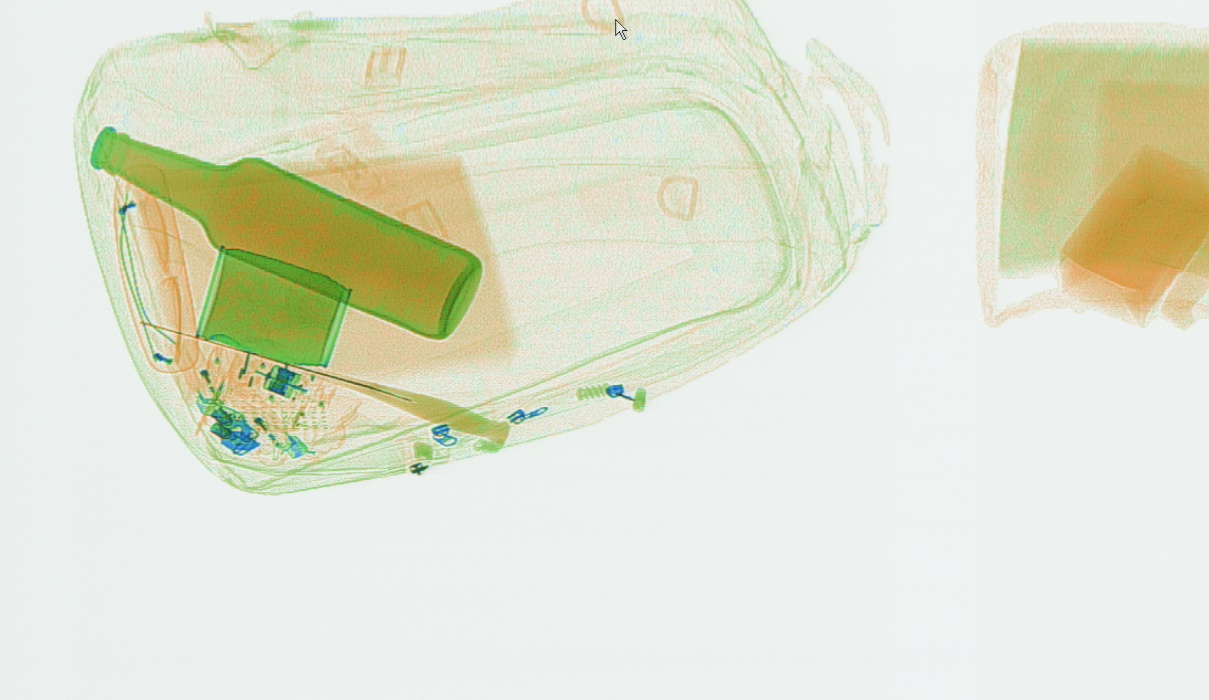knife: (139, 318, 511, 443)
lighter: (224, 380, 308, 460), (165, 335, 230, 418)
